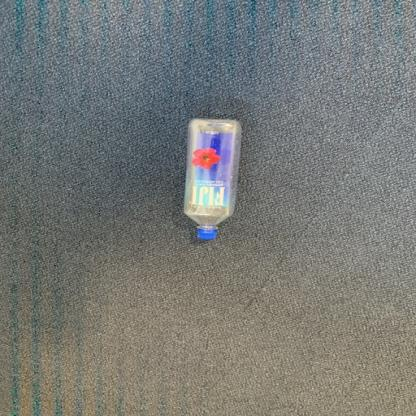trash: (180, 116, 244, 244)
